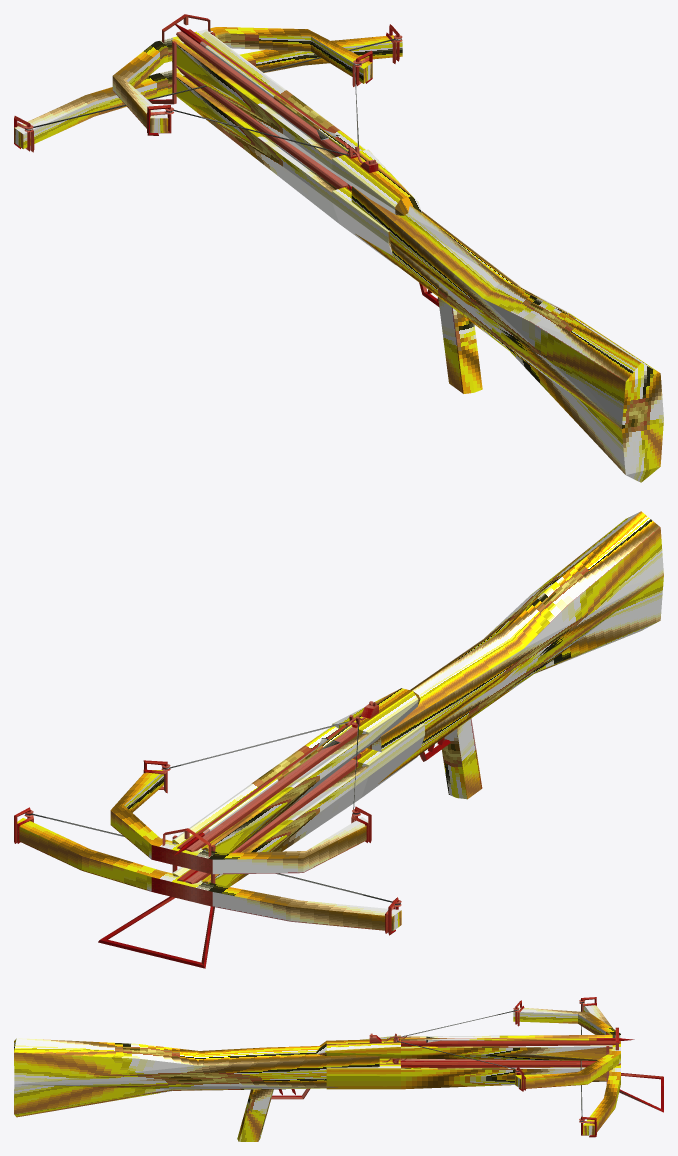
Rendered from double_crossbow_arming_upper_2.obj.
The picture shows the model from 3 angles, top to bottom: view 1: azimuth 30°, elevation 25°; view 2: azimuth 150°, elevation 25°; view 3: azimuth 270°, elevation 25°; orthographic projection. The views are drawn at different scales.
Parts seen in each view (by area): view 1: Torus.009_Torus.008, Torus.000, Torus.001_Torus.007, Torus.002_Torus.009; view 2: Torus.009_Torus.008, Torus.001_Torus.007, Torus.000, Torus.002_Torus.009; view 3: Torus.009_Torus.008, Torus.000, Torus.001_Torus.007, Torus.002_Torus.009.
Boxes of the visible parts, x1,y1,x2,y2 form: Torus.009_Torus.008: (344,142,663,482); Torus.000: (149,14,422,264); Torus.001_Torus.007: (14,24,402,155); Torus.002_Torus.009: (175,24,348,152); Torus.009_Torus.008: (345,511,663,799); Torus.001_Torus.007: (14,721,401,935); Torus.000: (98,688,424,968); Torus.002_Torus.009: (174,725,352,855); Torus.009_Torus.008: (14,1033,406,1141); Torus.000: (316,1027,663,1112); Torus.001_Torus.007: (396,997,620,1137); Torus.002_Torus.009: (401,1036,634,1042).
Bounding box in the file's own units: 3.45 × 1.45 × 7.77.
